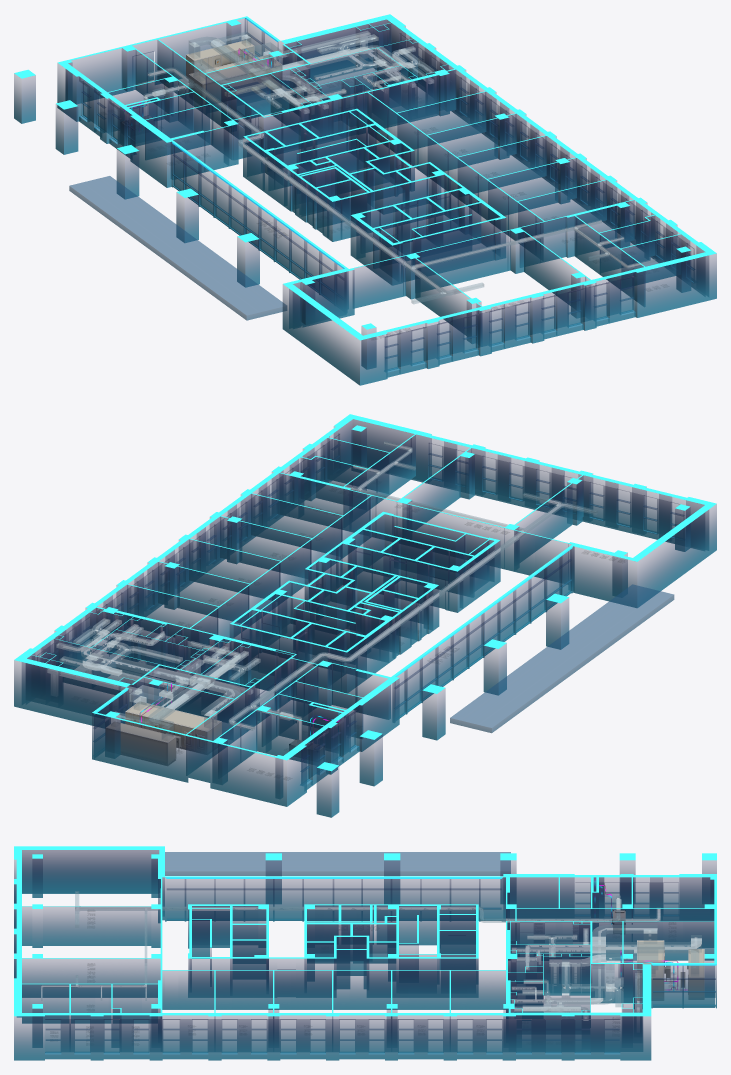
The model's file is CS_OpacityScene.gltf.
3 renders of one model, top to bottom at view 1: azimuth 30°, elevation 25°; view 2: azimuth 150°, elevation 25°; view 3: azimuth 270°, elevation 25°, orthographic. The views are drawn at different scales.
Parts seen in each view (by area): view 1: A2_3_2F_Wall, A2_3_2F_Wall_Outer, A2_3_2F_WindowsGlass_Outer, A2_3_2F, A2_3_2F_Windows_Outer, A2_3_2F_Wall (1), A2_3_2F_DoorWall, A2_3_2F_SingleDoor001, A2_3_2F_DoubleDoor, A2_3_2F_Red_Zhuzi, A2_3_2F_MA, A3_3_2F_SA (+6 smaller); view 2: A2_3_2F_Wall, A2_3_2F_Wall_Outer, A2_3_2F_Wall (1), A2_3_2F_WindowsGlass_Outer, A2_3_2F, A2_3_2F_Windows_Outer, A2_3_2F_DoorWall, A2_3_2F_SingleDoor001, A2_3_2F_DoubleDoor, A2_3_2F_MA, A3_3_2F_SA, A3_3_2F_RA (+6 smaller); view 3: A2_3_2F_Wall, A2_3_2F_WindowsGlass_Outer, A2_3_2F_Wall_Outer, A2_3_2F, A2_3_2F_Windows_Outer, A2_3_2F_Wall (1), A2_3_2F_SingleDoor001, A2_3_2F_Red_Zhuzi, A2_3_2F_DoorWall, A2_3_2F_MA, A3_3_2F_RA, A3_3_2F_SA (+7 smaller).
Part boxes in pixels (bbox=[...]): A2_3_2F_Wall: bbox=[65, 20, 690, 369]; A2_3_2F_Wall_Outer: bbox=[14, 21, 716, 385]; A2_3_2F_WindowsGlass_Outer: bbox=[83, 20, 694, 369]; A2_3_2F: bbox=[14, 14, 716, 340]; A2_3_2F_Windows_Outer: bbox=[69, 19, 693, 370]; A2_3_2F_Wall (1): bbox=[66, 18, 705, 328]; A2_3_2F_DoorWall: bbox=[133, 41, 639, 274]; A2_3_2F_SingleDoor001: bbox=[185, 60, 639, 303]; A2_3_2F_DoubleDoor: bbox=[133, 51, 540, 300]; A2_3_2F_Red_Zhuzi: bbox=[87, 37, 689, 374]; A2_3_2F_MA: bbox=[144, 68, 655, 303]; A3_3_2F_SA: bbox=[190, 34, 433, 86]; A2_3_2F_Wall: bbox=[26, 428, 690, 798]; A2_3_2F_Wall_Outer: bbox=[14, 419, 716, 817]; A2_3_2F_Wall (1): bbox=[26, 419, 704, 806]; A2_3_2F_WindowsGlass_Outer: bbox=[37, 435, 683, 783]; A2_3_2F: bbox=[14, 414, 716, 771]; A2_3_2F_Windows_Outer: bbox=[43, 433, 684, 784]; A2_3_2F_DoorWall: bbox=[93, 438, 534, 752]; A2_3_2F_SingleDoor001: bbox=[93, 450, 465, 739]; A2_3_2F_DoubleDoor: bbox=[188, 508, 534, 782]; A2_3_2F_MA: bbox=[229, 441, 597, 741]; A3_3_2F_SA: bbox=[60, 618, 240, 716]; A3_3_2F_RA: bbox=[48, 620, 252, 725]; A2_3_2F_Wall: bbox=[22, 859, 715, 1051]; A2_3_2F_WindowsGlass_Outer: bbox=[45, 879, 715, 1052]; A2_3_2F_Wall_Outer: bbox=[14, 850, 716, 1060]; A2_3_2F: bbox=[14, 846, 716, 1016]; A2_3_2F_Windows_Outer: bbox=[20, 852, 716, 1053]; A2_3_2F_Wall (1): bbox=[22, 850, 714, 923]; A2_3_2F_SingleDoor001: bbox=[30, 916, 618, 1033]; A2_3_2F_Red_Zhuzi: bbox=[61, 878, 662, 1059]; A2_3_2F_DoorWall: bbox=[30, 905, 684, 1006]; A2_3_2F_MA: bbox=[41, 891, 660, 1000]; A3_3_2F_RA: bbox=[512, 928, 698, 1020]; A3_3_2F_SA: bbox=[522, 925, 657, 1010].
Size of what is drawn, in the model's own units: 3.27 by 0.3701 by 5.2.
Materials: 9 (7 with a texture image).
